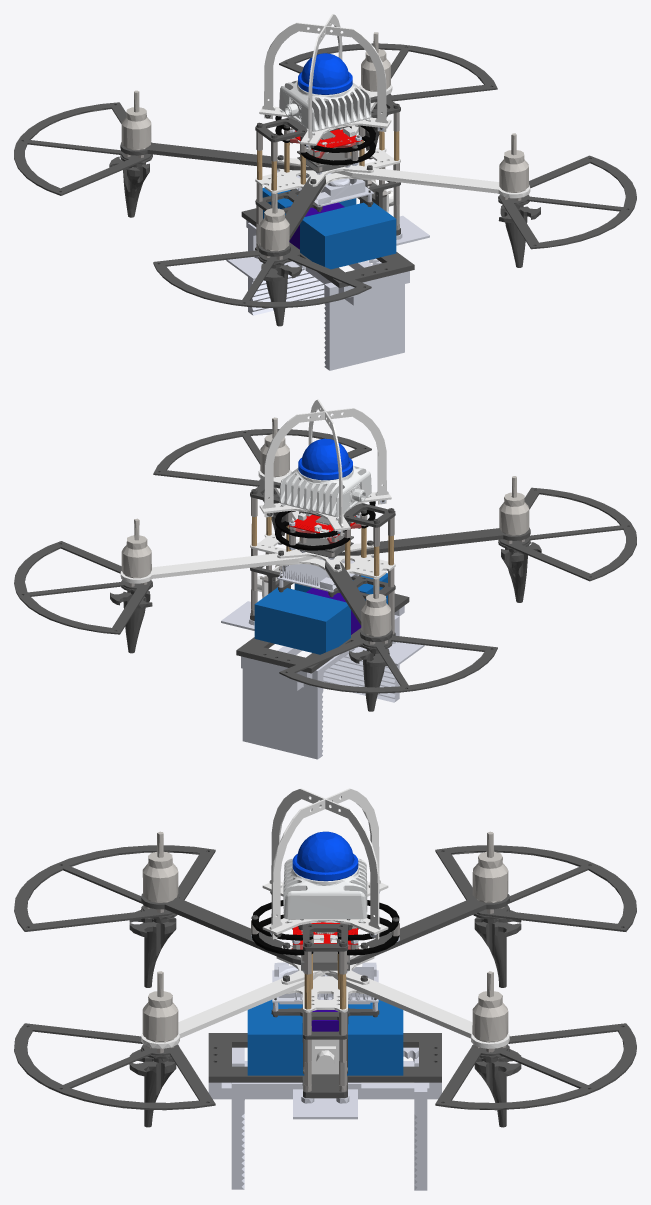
Rendered from drone_gripper_battery_LiDAR_1300_gripper_180mm.dae.
3 renders of one model, top to bottom at view 1: azimuth 30°, elevation 25°; view 2: azimuth 150°, elevation 25°; view 3: azimuth 270°, elevation 25°, orthographic. The views are drawn at different scales.
Visible parts, largest first — view 1: Shape_IndexedFaceSet; view 2: Shape_IndexedFaceSet; view 3: Shape_IndexedFaceSet.
Part boxes in pixels (box(x1,y1,x2,y2)): Shape_IndexedFaceSet: box(14, 14, 636, 370); Shape_IndexedFaceSet: box(14, 399, 636, 759); Shape_IndexedFaceSet: box(14, 788, 636, 1190).
Size of the model in its own units: 0.4807 by 0.4807 by 0.3133.
